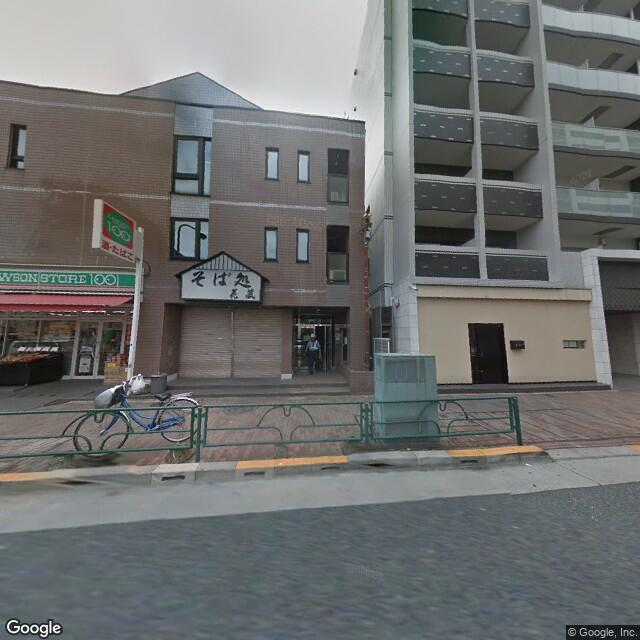lawson: (1, 261, 139, 300), (100, 203, 139, 255)
